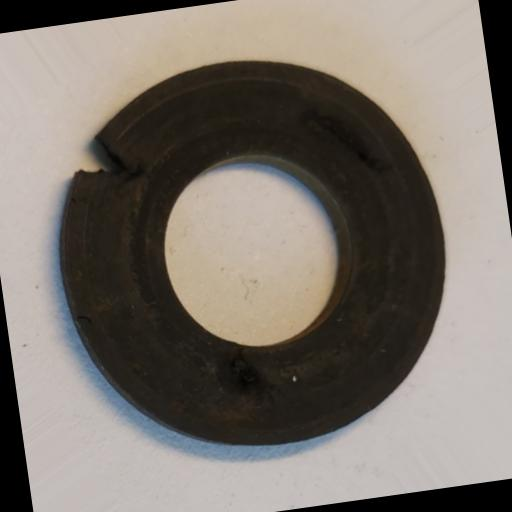defect: (69, 128, 130, 181)
